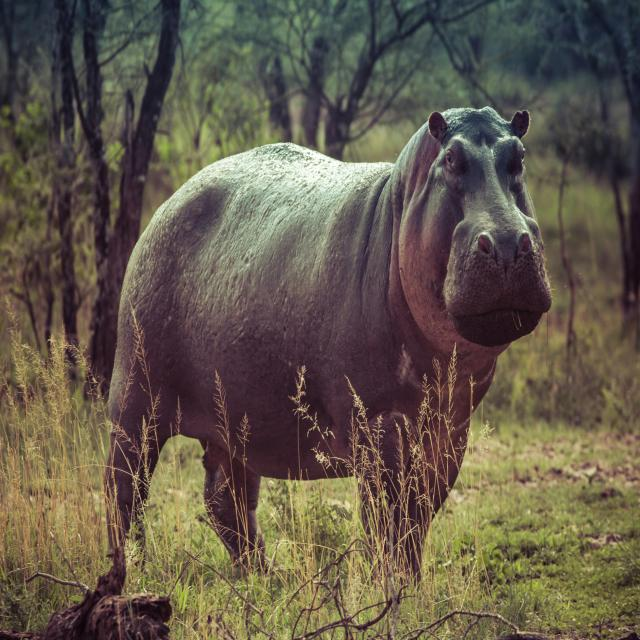Hippopotamus: (91, 98, 556, 566)
